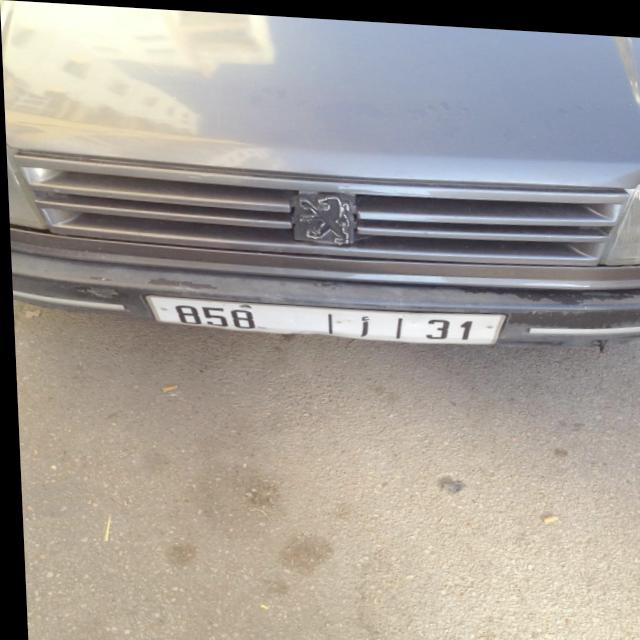License-Plate: (143, 294, 502, 339)
